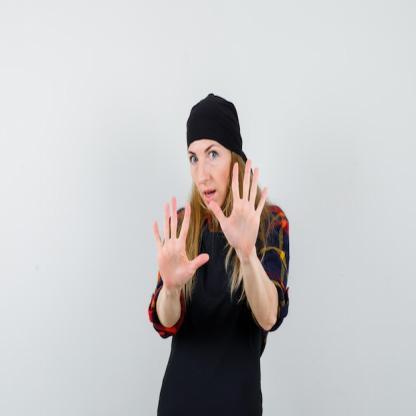stop: (208, 157, 270, 256), (152, 192, 210, 290)
